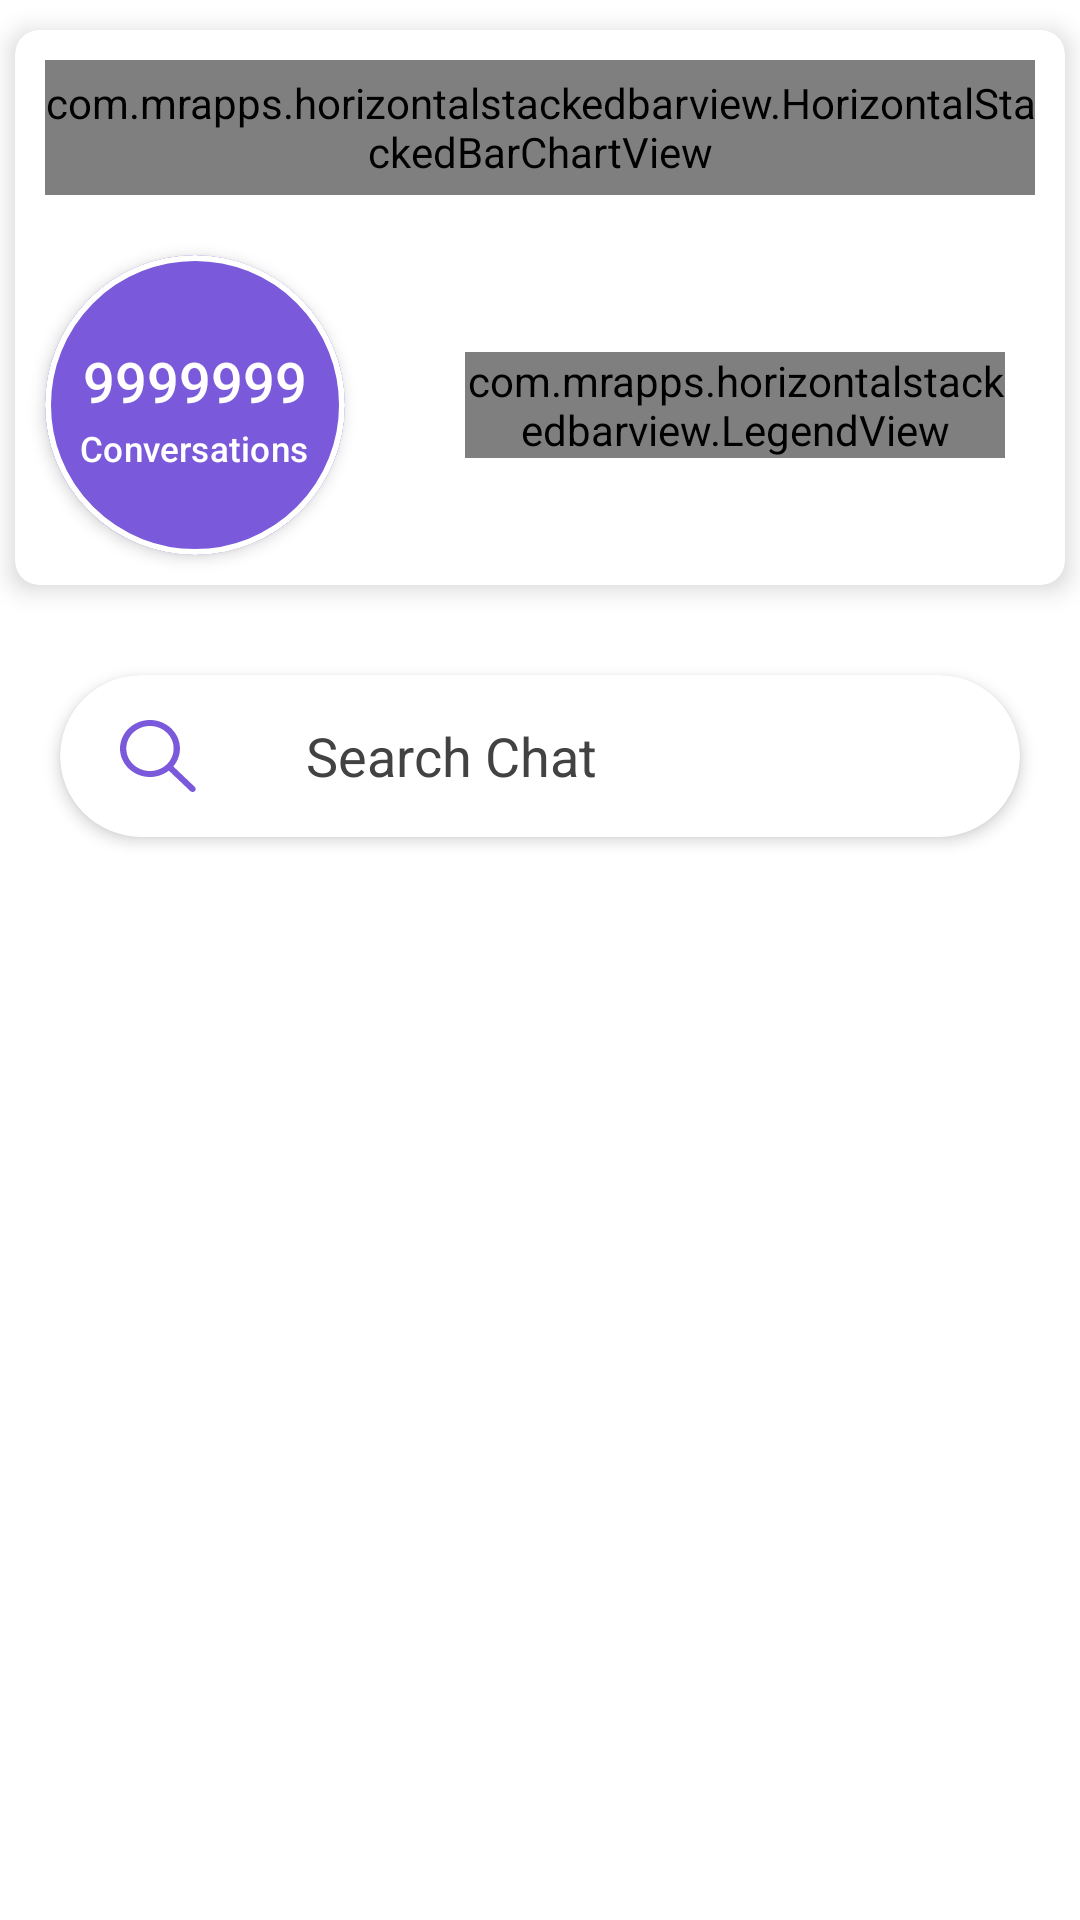

Named icons in this screenshot (1080*1920) and their bounding boxes, (x1, y1, x2, y2):
search: (120, 720, 196, 792)
